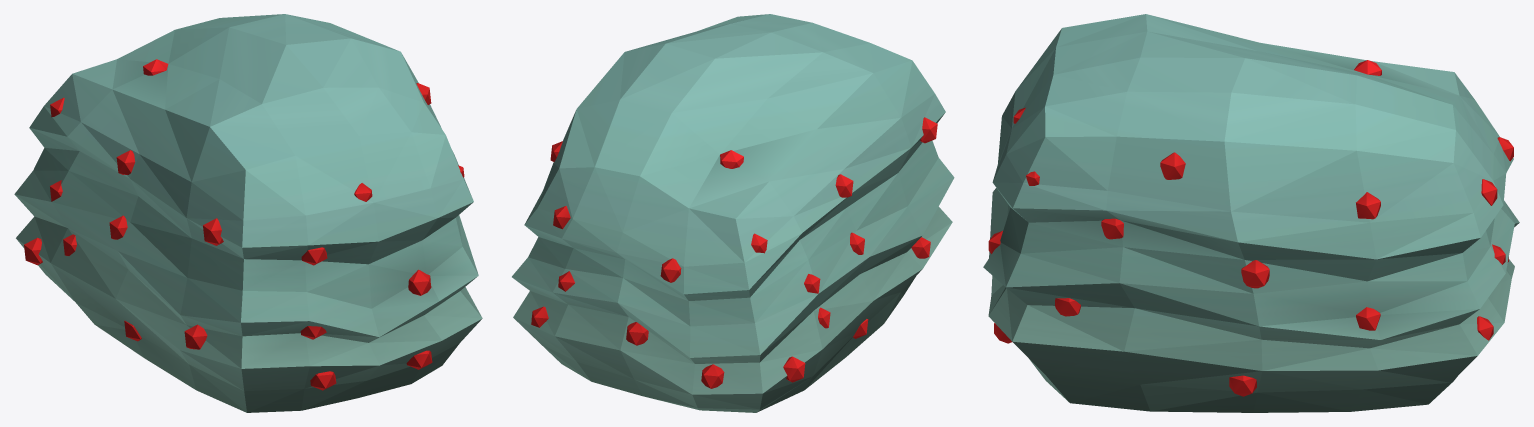
Rendered from bush_berry.glb.
3 renders of one model, left to right at view 1: azimuth 30°, elevation 25°; view 2: azimuth 150°, elevation 25°; view 3: azimuth 270°, elevation 25°, orthographic. The views are drawn at different scales.
Parts seen in each view (by area): view 1: bush_berry; view 2: bush_berry; view 3: bush_berry.
Boxes of the visible parts, x1=… form: bush_berry: x1=14, y1=14, x2=482, y2=412; bush_berry: x1=512, y1=14, x2=954, y2=412; bush_berry: x1=983, y1=14, x2=1519, y2=412.
Size of the model in its own units: 1.19 by 1 by 1.59.
Materials: 1 (1 with a texture image).
